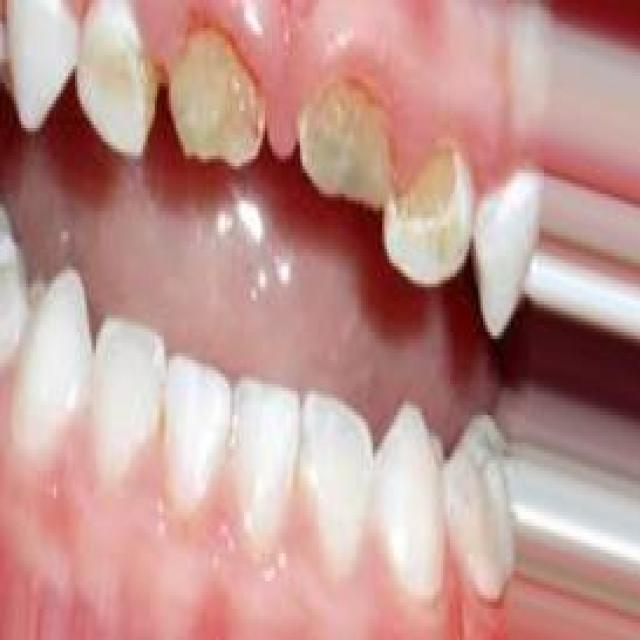caries: (164, 17, 279, 173), (290, 73, 392, 213), (386, 130, 476, 268)
